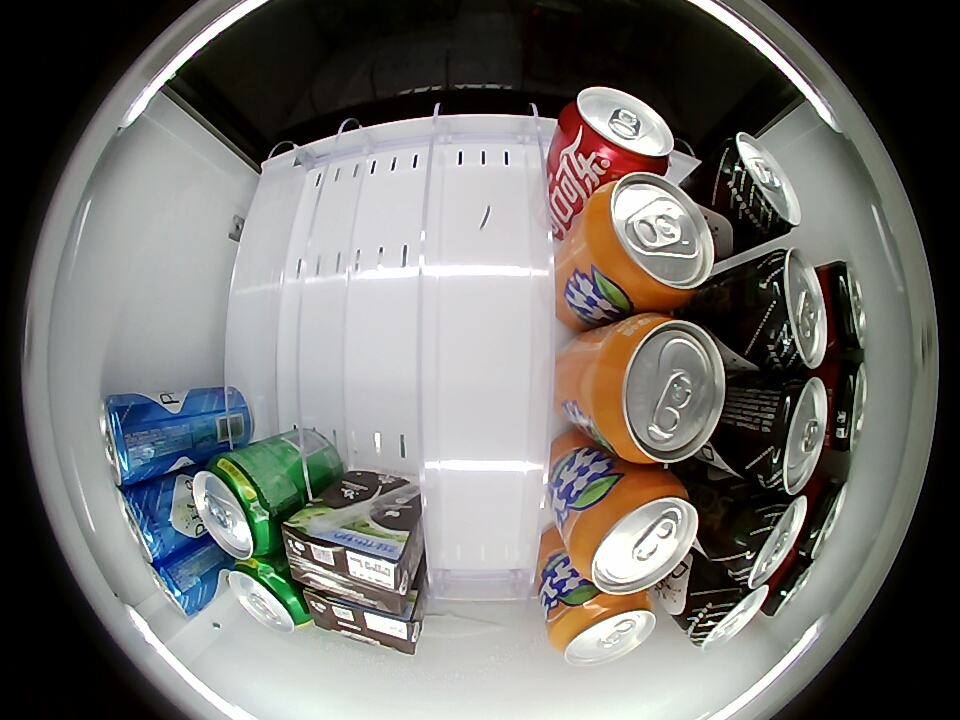fenda: (588, 315, 728, 464), (580, 173, 715, 310), (567, 472, 699, 595), (547, 591, 657, 667)
kele: (559, 87, 675, 174)
lingdukele: (795, 472, 849, 560), (817, 260, 866, 356), (822, 359, 867, 452), (762, 551, 817, 618)
qingdaowangzi-1: (734, 377, 827, 496), (744, 249, 828, 375), (713, 131, 802, 239), (720, 492, 806, 588), (683, 576, 768, 651)
qingdaowangzi-2: (100, 394, 163, 486), (115, 479, 183, 564), (144, 553, 217, 617)
weitanai2: (282, 508, 418, 612), (305, 589, 424, 655)
xuebi2: (192, 454, 282, 560), (226, 557, 312, 634)
